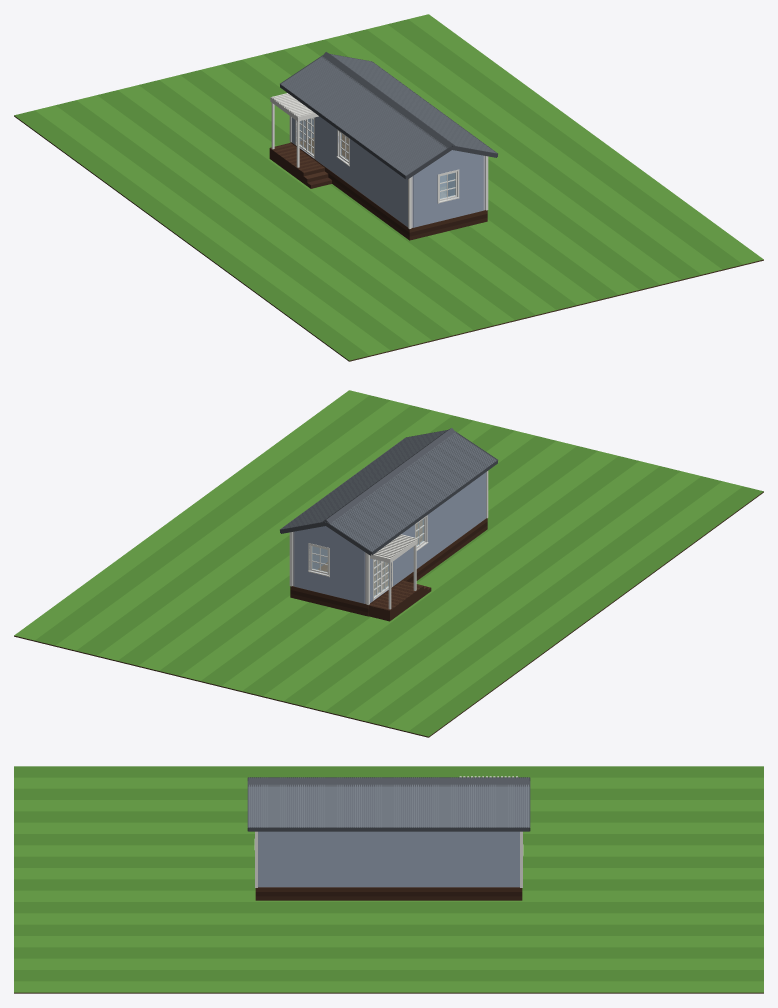
File: Studio_Model.dae
3 renders of one model, top to bottom at view 1: azimuth 30°, elevation 25°; view 2: azimuth 150°, elevation 25°; view 3: azimuth 270°, elevation 25°, orthographic. The views are drawn at different scales.
Visible parts, largest first — view 1: Grass, Roof, Walls, Base, Windows_Doors, Deck, Pergola; view 2: Grass, Roof, Walls, Base, Windows_Doors, Deck, Pergola; view 3: Grass, Roof, Walls, Base.
Boxes of the visible parts, bbox=[...] form: Grass: bbox=[14, 14, 763, 361]; Roof: bbox=[280, 52, 497, 179]; Walls: bbox=[289, 116, 488, 228]; Base: bbox=[290, 142, 487, 240]; Windows_Doors: bbox=[295, 117, 459, 203]; Deck: bbox=[269, 142, 324, 183]; Pergola: bbox=[270, 93, 318, 167]; Grass: bbox=[14, 390, 763, 737]; Roof: bbox=[280, 428, 497, 555]; Walls: bbox=[289, 471, 488, 604]; Base: bbox=[290, 518, 487, 616]; Windows_Doors: bbox=[308, 515, 428, 600]; Deck: bbox=[368, 580, 423, 621]; Pergola: bbox=[370, 534, 417, 609]; Grass: bbox=[14, 766, 763, 993]; Roof: bbox=[247, 777, 530, 831]; Walls: bbox=[255, 831, 522, 887]; Base: bbox=[255, 887, 522, 900].
Bounding box in the file's own units: 20 × 28 × 4.18.
